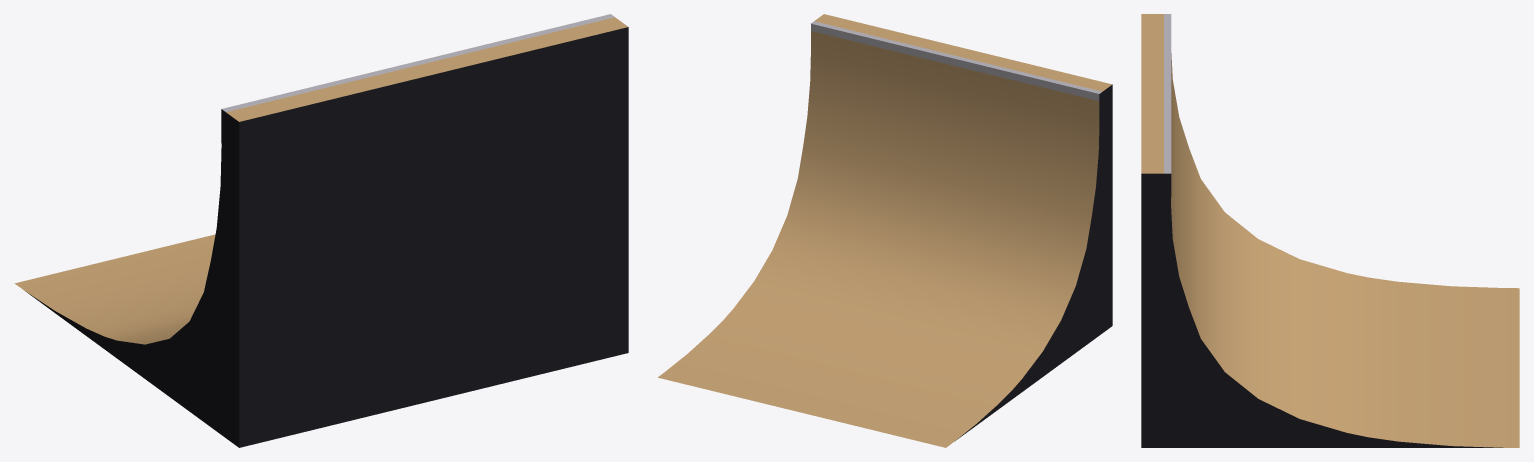
Rendered from Quater_SML_HighVert_.fbx.
3 renders of one model, left to right at view 1: azimuth 30°, elevation 25°; view 2: azimuth 150°, elevation 25°; view 3: azimuth 270°, elevation 25°, orthographic. The views are drawn at different scales.
Visible parts, largest first — view 1: Quater_SML_HighVert_; view 2: Quater_SML_HighVert_; view 3: Quater_SML_HighVert_.
Boxes of the visible parts, bbox=[...] form: Quater_SML_HighVert_: bbox=[14, 14, 628, 447]; Quater_SML_HighVert_: bbox=[658, 14, 1112, 447]; Quater_SML_HighVert_: bbox=[1141, 14, 1519, 447].
Bounding box in the file's own units: 10 × 8 × 10.
